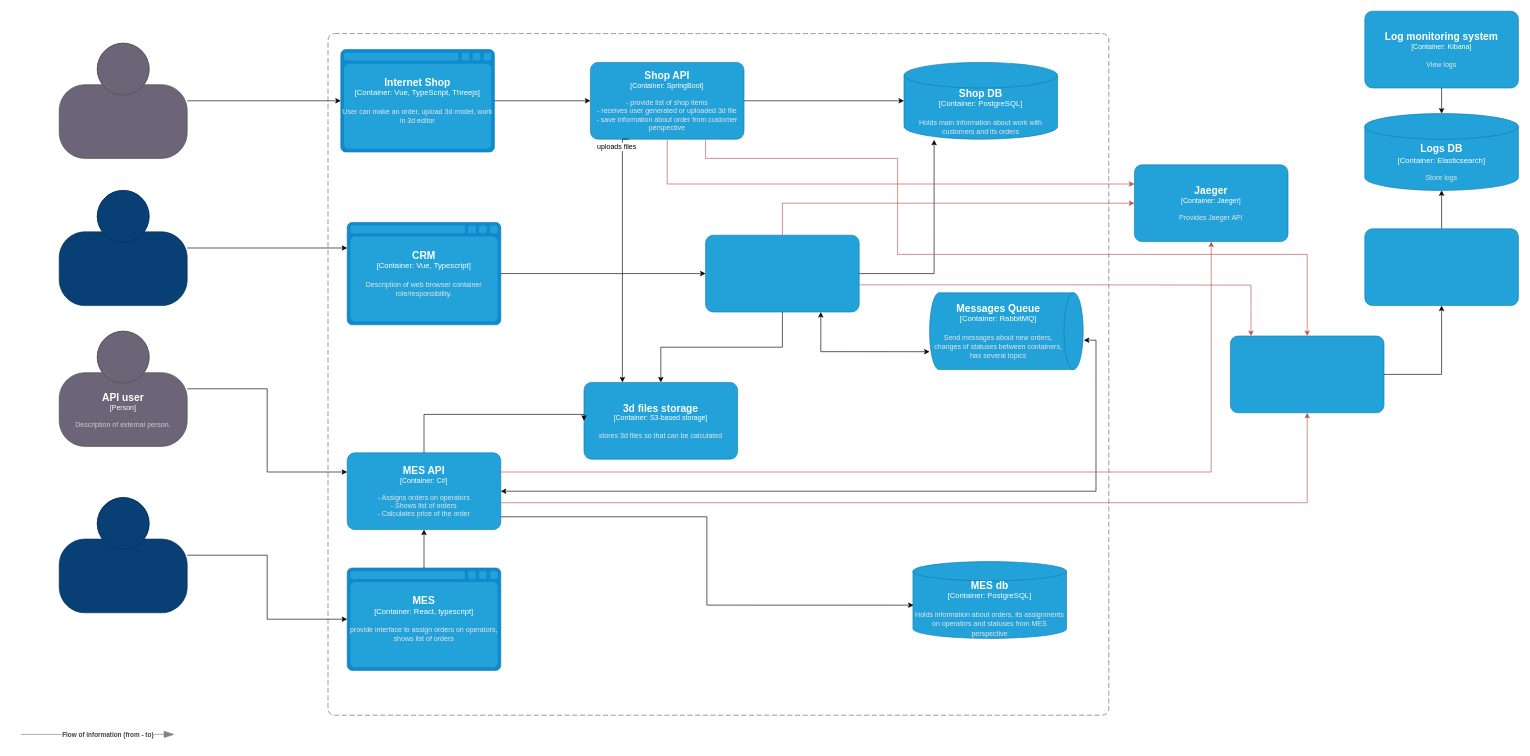
This 1530x756 diagram has some shape labels left out. Each missing label, with the box of its shape:
CRM API [Container: SpringBoot] Description of container role/responsibility.: (705, 235, 859, 312)
Customer [Person] Description of external person.: (59, 43, 187, 158)
Jewerly Store System [Software System]: (327, 33, 1109, 715)
Logs aggregator [Container: Filebeat] Aggregate logs: (1230, 335, 1384, 413)
Logs processing [Container: Logstash] Process logs: (1364, 228, 1518, 306)
Operator [Person] Takes order in work, manufactures jewerly: (59, 497, 187, 613)
Seller [Person] Operates with order, confirms manufacturing for the user: (59, 190, 187, 306)
